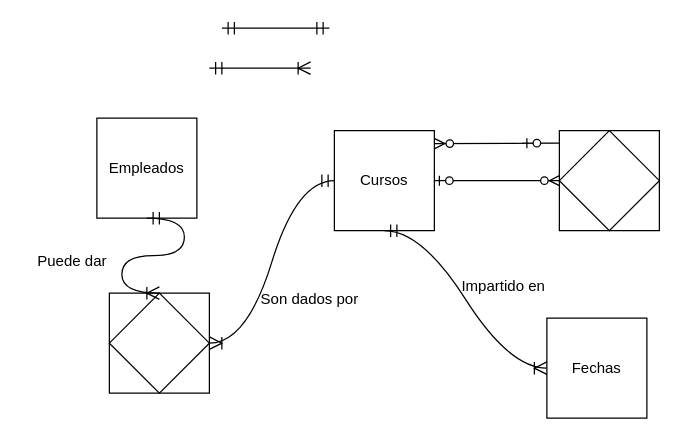
Some shapes in this 681 by 440 pixel diagram are drawn without their labels. The centre of each missing label's shape, as x and y in pixels:
Cur-correlativos: point 608,180
Emp-capacitados-cur: point 158,342
